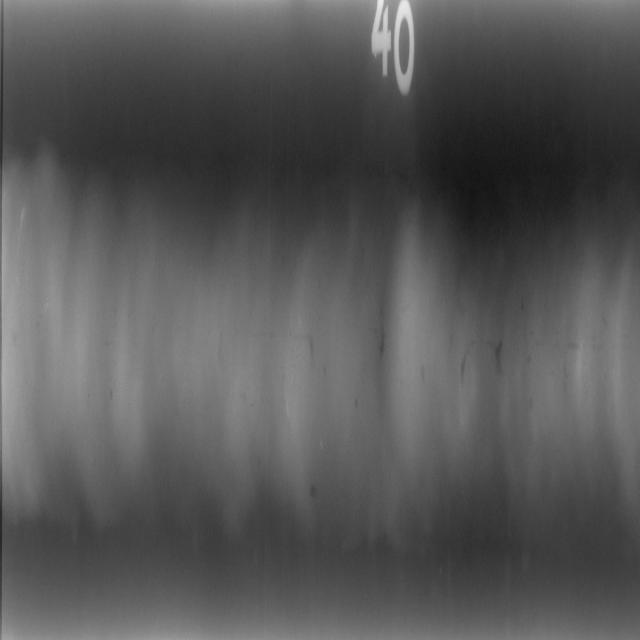FF: (90, 102, 503, 268), (9, 447, 280, 611), (473, 507, 640, 596), (445, 304, 509, 412), (351, 512, 407, 590), (417, 504, 459, 594), (371, 302, 389, 370), (308, 473, 318, 508)
FP: (240, 304, 318, 370), (538, 327, 634, 364)
PO: (353, 389, 361, 424), (322, 357, 329, 384)
